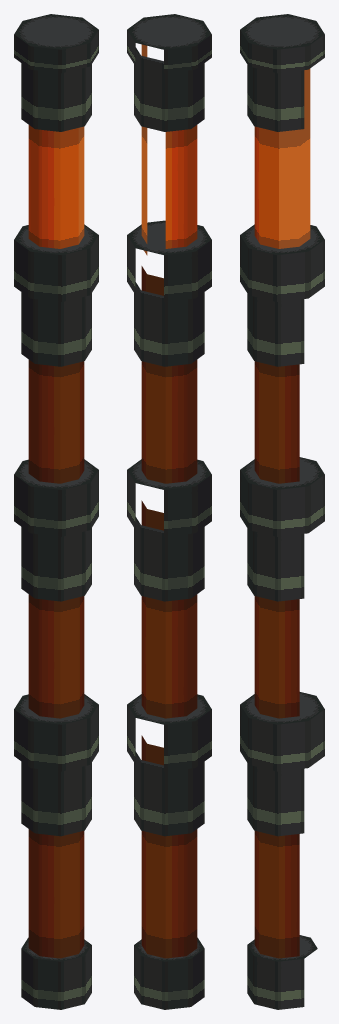
3 views of the same model, side by side, from view 1: azimuth 30°, elevation 25°; view 2: azimuth 150°, elevation 25°; view 3: azimuth 330°, elevation 25° (orthographic).
Size of the model in its own units: 3.05 by 41.03 by 3.05.
2 materials, 2 textured.
